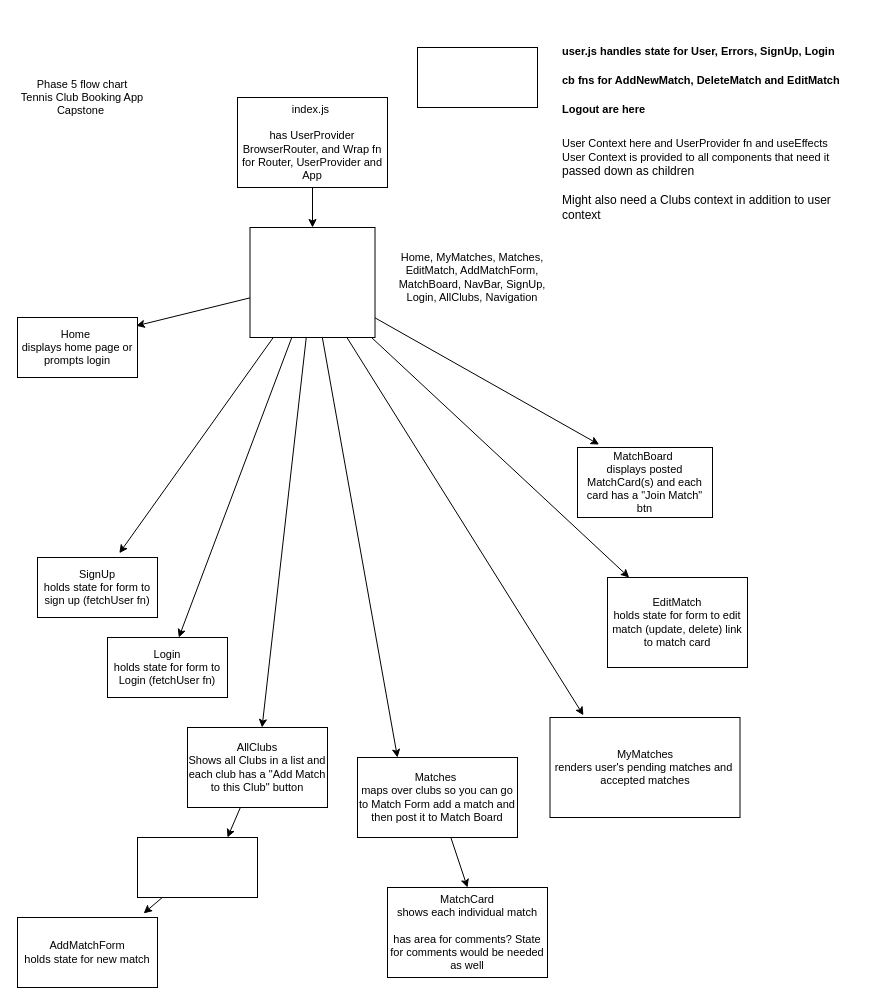
The diagram is 875 pixels wide and 1005 high, and some of its shapes have lost their labels. The shapes that lost their labels are listed below. From the top down, each one's centre as x and y in pixels, then its label:
At (477,77): "user.js".
At (312,282): "App has react router routes for components".
At (197,867): "ClubCard shows each individual club".
